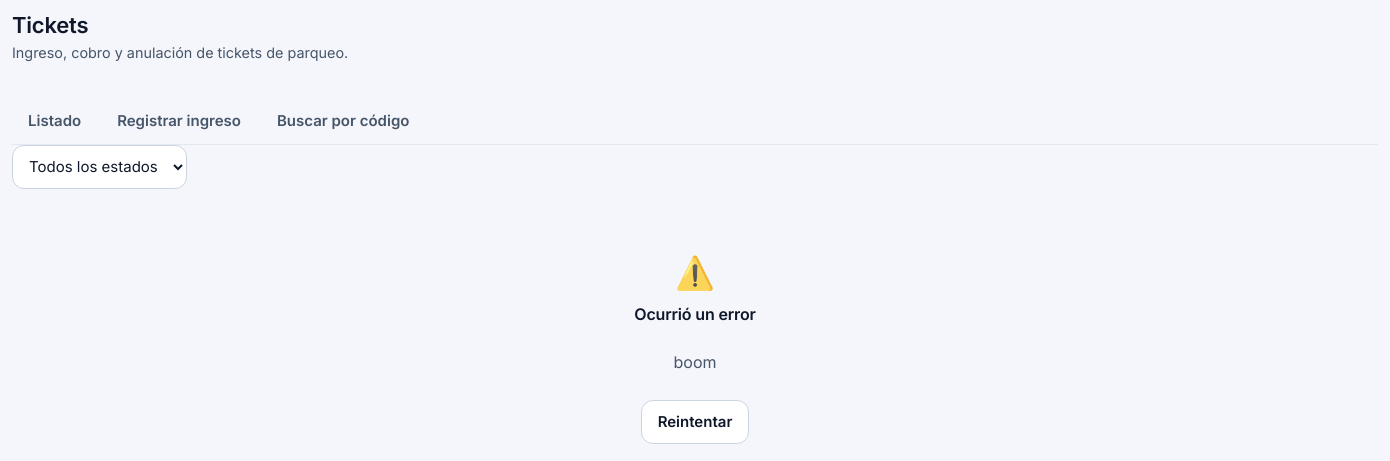
Scenario: TicketsPage › error al cargar con reintento
The image size is (1390, 461).
Expected: the text "boom" is shown, [674,352,716,372]
Click the button "Reintentar" at coordinates (695, 422), box [641,400,749,444]
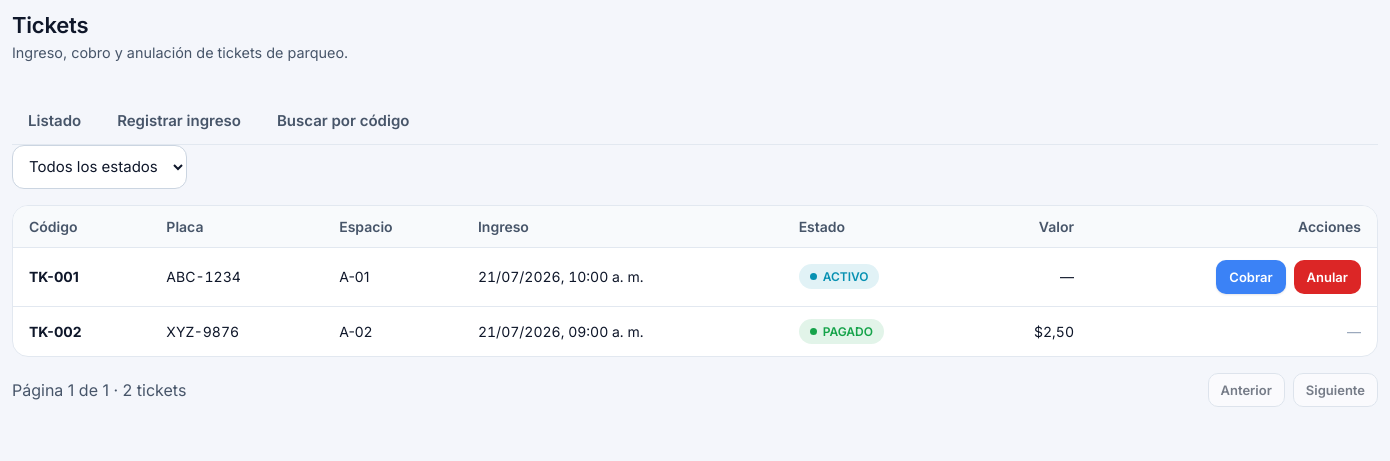
Now the text "TK-001" is shown, box [29,268,79,285]
